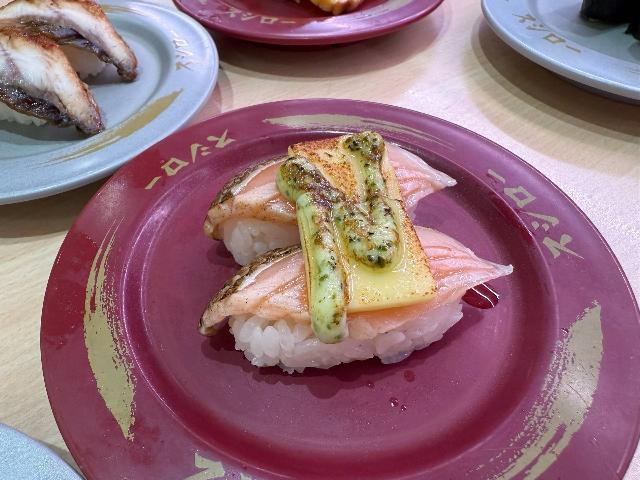janred: (84, 149, 630, 466), (187, 0, 453, 50)
janwhite: (0, 11, 208, 151), (471, 1, 640, 119), (0, 395, 84, 480)
